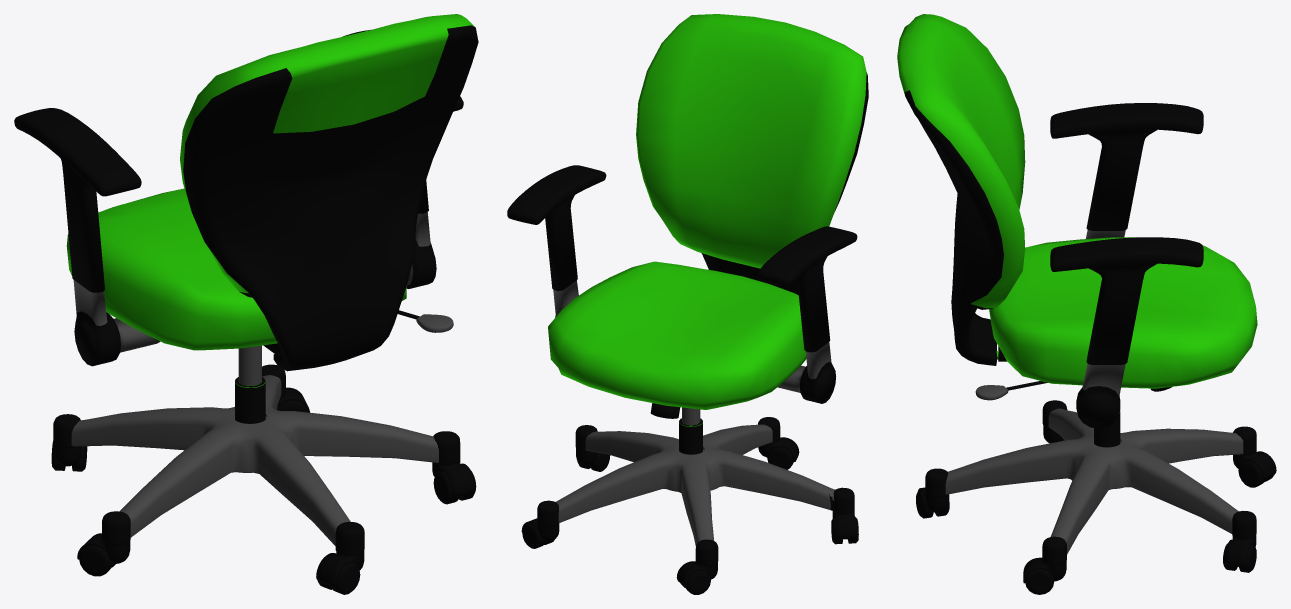
File: chair.glb
3 renders of one model, left to right at view 1: azimuth 30°, elevation 25°; view 2: azimuth 150°, elevation 25°; view 3: azimuth 270°, elevation 25°, orthographic. The views are drawn at different scales.
Parts seen in each view (by area): view 1: Office Chair; view 2: Office Chair; view 3: Office Chair.
Part boxes in pixels (x1,y1,x2,y2): Office Chair: (14,14,478,594); Office Chair: (507,14,868,594); Office Chair: (897,14,1276,594).
Size of the model in its own units: 4.78 by 6.75 by 4.9.
